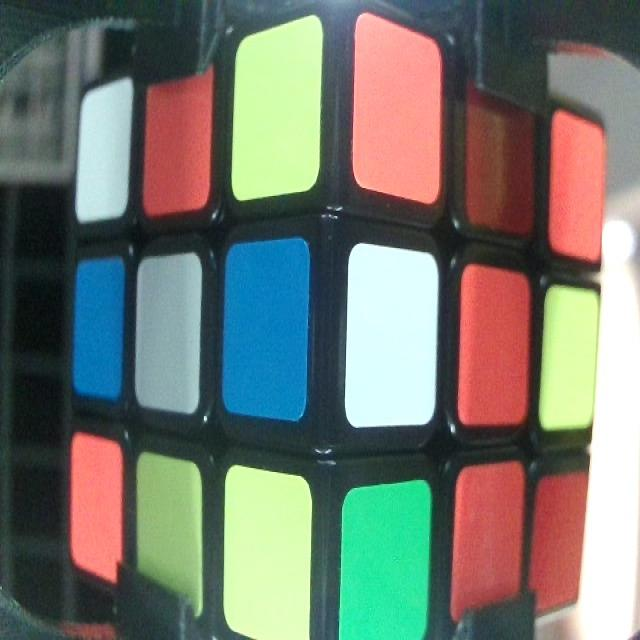b: (227, 252, 304, 407), (74, 272, 121, 388)
g: (342, 503, 428, 629)
o: (359, 46, 437, 183), (464, 275, 526, 419), (458, 479, 520, 608), (149, 94, 209, 202), (68, 448, 120, 570), (553, 131, 603, 252)
r: (468, 97, 534, 222), (540, 486, 581, 593)
w: (350, 259, 435, 418), (139, 269, 197, 405), (81, 104, 127, 211)
y: (224, 488, 310, 639), (236, 49, 316, 179), (137, 469, 200, 604), (546, 302, 592, 426)
